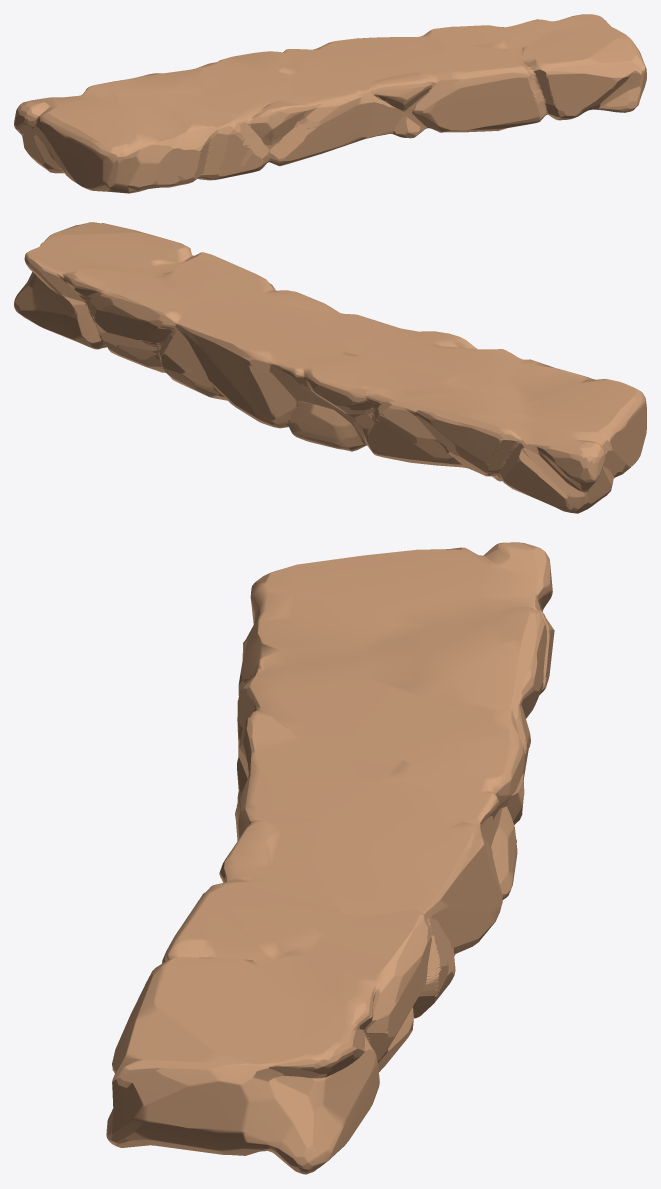
The picture shows the model from 3 angles, top to bottom: view 1: azimuth 30°, elevation 25°; view 2: azimuth 150°, elevation 25°; view 3: azimuth 270°, elevation 25°; orthographic projection. The views are drawn at different scales.
Parts seen in each view (by area): view 1: Mesh_58.001_LOD0; view 2: Mesh_58.001_LOD0; view 3: Mesh_58.001_LOD0.
Part boxes in pixels (box(x1,y1,x2,y2)): Mesh_58.001_LOD0: box(14, 14, 646, 193); Mesh_58.001_LOD0: box(14, 222, 646, 513); Mesh_58.001_LOD0: box(106, 542, 554, 1174).
Size of what is drawn, in the model's own units: 5756 by 641 by 2048.
